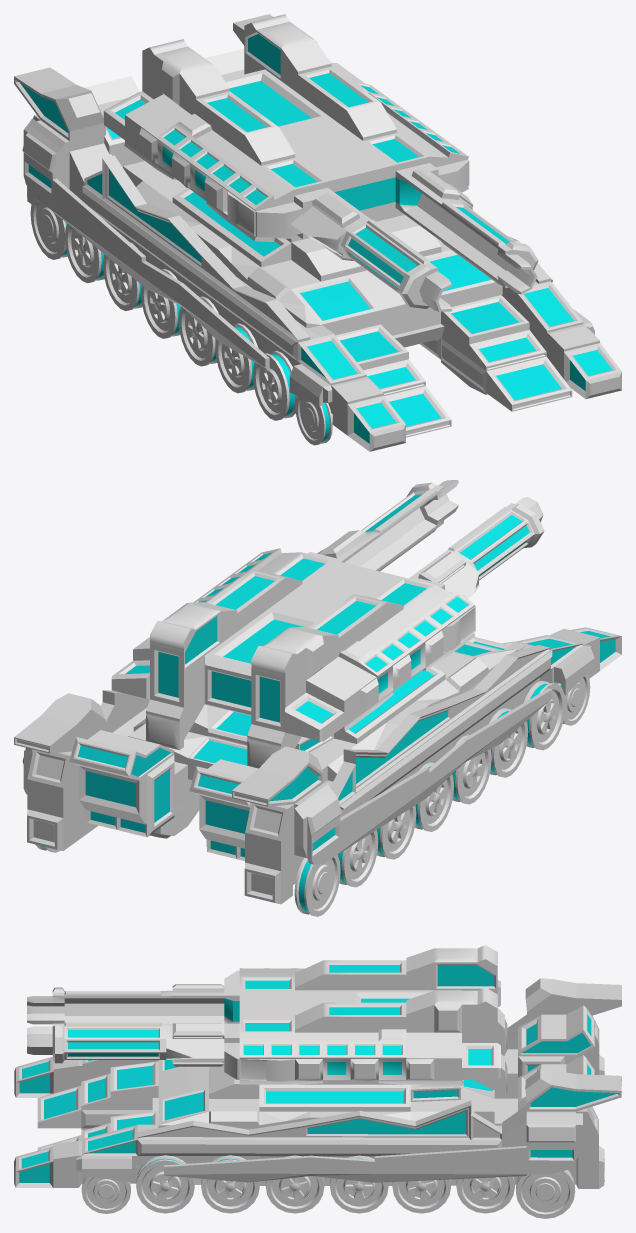
Rendered from TANK1_FINAL.fbx.
3 views of the same model, one above another, from view 1: azimuth 30°, elevation 25°; view 2: azimuth 150°, elevation 25°; view 3: azimuth 270°, elevation 25° (orthographic). The views are drawn at different scales.
Visible parts, largest first — view 1: pCube6, pCube1, pCube3, pCylinder9, pCylinder17, pCylinder18; view 2: pCube6, pCube1, pCube3, pCylinder9, pCylinder17, pCylinder18; view 3: pCube6, pCube1, pCube3, pCylinder15, pCylinder16, pCylinder19.
Boxes of the visible parts, x1=… form: pCube6: x1=103, y1=14, x2=538, y2=311; pCube1: x1=14, y1=14, x2=621, y2=451; pCube3: x1=84, y1=48, x2=572, y2=437; pCylinder9: x1=65, y1=223, x2=296, y2=420; pCylinder17: x1=30, y1=196, x2=67, y2=259; pCylinder18: x1=295, y1=396, x2=332, y2=445; pCube6: x1=111, y1=480, x2=544, y2=768; pCube1: x1=14, y1=627, x2=621, y2=904; pCube3: x1=69, y1=637, x2=518, y2=860; pCylinder9: x1=338, y1=680, x2=565, y2=887; pCylinder17: x1=294, y1=854, x2=340, y2=916; pCylinder18: x1=558, y1=673, x2=590, y2=725; pCube6: x1=27, y1=945, x2=507, y2=1097; pCube1: x1=14, y1=978, x2=621, y2=1188; pCube3: x1=37, y1=1005, x2=594, y2=1150; pCylinder15: x1=136, y1=1155, x2=514, y2=1213; pCylinder16: x1=516, y1=1170, x2=575, y2=1218; pCylinder19: x1=81, y1=1176, x2=130, y2=1213.
Size of the model in its own units: 163 by 116 by 342.
